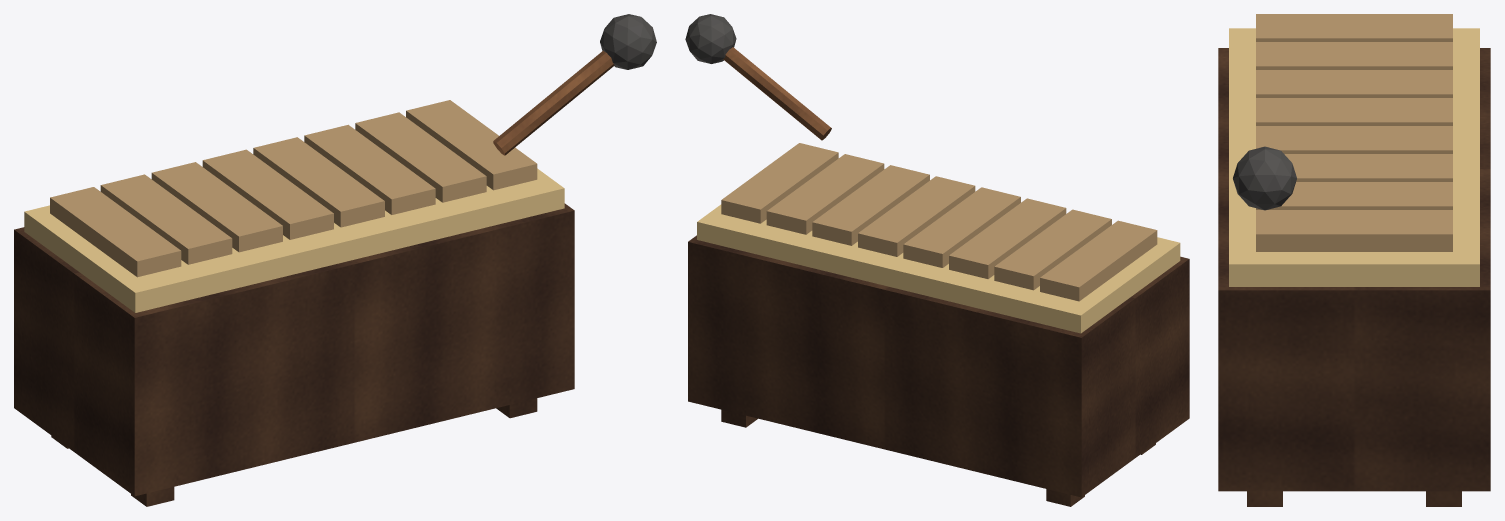
File: gamelan_saron_dekorasi.glb
The picture shows the model from 3 angles, left to right: view 1: azimuth 30°, elevation 25°; view 2: azimuth 150°, elevation 25°; view 3: azimuth 270°, elevation 25°; orthographic projection. The views are drawn at different scales.
Visible parts, largest first — view 1: SARON_BASE, SARON_BRASS_BASE, SARON_KEY_0, SARON_KEY_1, SARON_KEY_6, SARON_KEY_3, SARON_KEY_4, SARON_KEY_5, SARON_KEY_2, SARON_KEY_7, SARON_MALLET_HANDLE, SARON_MALLET_HEAD; view 2: SARON_BASE, SARON_BRASS_BASE, SARON_KEY_0, SARON_KEY_6, SARON_KEY_1, SARON_KEY_7, SARON_KEY_2, SARON_KEY_3, SARON_KEY_5, SARON_KEY_4, SARON_MALLET_HANDLE, SARON_MALLET_HEAD; view 3: SARON_BASE, SARON_BRASS_BASE, SARON_KEY_7, SARON_KEY_0, SARON_KEY_1, SARON_KEY_2, SARON_KEY_3, SARON_KEY_4, SARON_KEY_6, SARON_KEY_5, SARON_MALLET_HEAD, SARON_LEG_0.66 (+1 smaller).
Boxes of the visible parts, x1=… form: SARON_BASE: x1=14, y1=203, x2=574, y2=496; SARON_BRASS_BASE: x1=24, y1=168, x2=564, y2=312; SARON_KEY_0: x1=50, y1=187, x2=181, y2=277; SARON_KEY_1: x1=100, y1=174, x2=232, y2=264; SARON_KEY_6: x1=355, y1=112, x2=486, y2=202; SARON_KEY_3: x1=202, y1=149, x2=333, y2=239; SARON_KEY_4: x1=253, y1=137, x2=384, y2=227; SARON_KEY_5: x1=304, y1=124, x2=435, y2=214; SARON_KEY_2: x1=151, y1=162, x2=282, y2=252; SARON_KEY_7: x1=406, y1=100, x2=537, y2=190; SARON_MALLET_HANDLE: x1=493, y1=50, x2=614, y2=155; SARON_MALLET_HEAD: x1=600, y1=14, x2=656, y2=69; SARON_BASE: x1=688, y1=235, x2=1189, y2=497; SARON_BRASS_BASE: x1=697, y1=204, x2=1180, y2=333; SARON_KEY_0: x1=1040, y1=220, x2=1157, y2=301; SARON_KEY_6: x1=766, y1=154, x2=884, y2=234; SARON_KEY_1: x1=994, y1=209, x2=1111, y2=290; SARON_KEY_7: x1=721, y1=143, x2=838, y2=223; SARON_KEY_2: x1=949, y1=198, x2=1066, y2=278; SARON_KEY_3: x1=903, y1=187, x2=1020, y2=267; SARON_KEY_5: x1=812, y1=165, x2=929, y2=245; SARON_KEY_4: x1=858, y1=176, x2=975, y2=256; SARON_MALLET_HANDLE: x1=723, y1=47, x2=831, y2=140; SARON_MALLET_HEAD: x1=685, y1=14, x2=736, y2=63; SARON_BASE: x1=1218, y1=48, x2=1490, y2=491; SARON_BRASS_BASE: x1=1229, y1=28, x2=1479, y2=286; SARON_KEY_7: x1=1256, y1=210, x2=1452, y2=251; SARON_KEY_0: x1=1256, y1=14, x2=1452, y2=41; SARON_KEY_1: x1=1256, y1=42, x2=1452, y2=69; SARON_KEY_2: x1=1256, y1=70, x2=1452, y2=97; SARON_KEY_3: x1=1256, y1=98, x2=1452, y2=125; SARON_KEY_4: x1=1256, y1=126, x2=1452, y2=153; SARON_KEY_6: x1=1256, y1=182, x2=1452, y2=209; SARON_KEY_5: x1=1284, y1=154, x2=1452, y2=181; SARON_MALLET_HEAD: x1=1233, y1=146, x2=1296, y2=210; SARON_LEG_0.66: x1=1426, y1=491, x2=1461, y2=506.
Bounding box in the file's own units: 1.96 × 1.27 × 0.76.
Materials: 5 (2 with a texture image).
